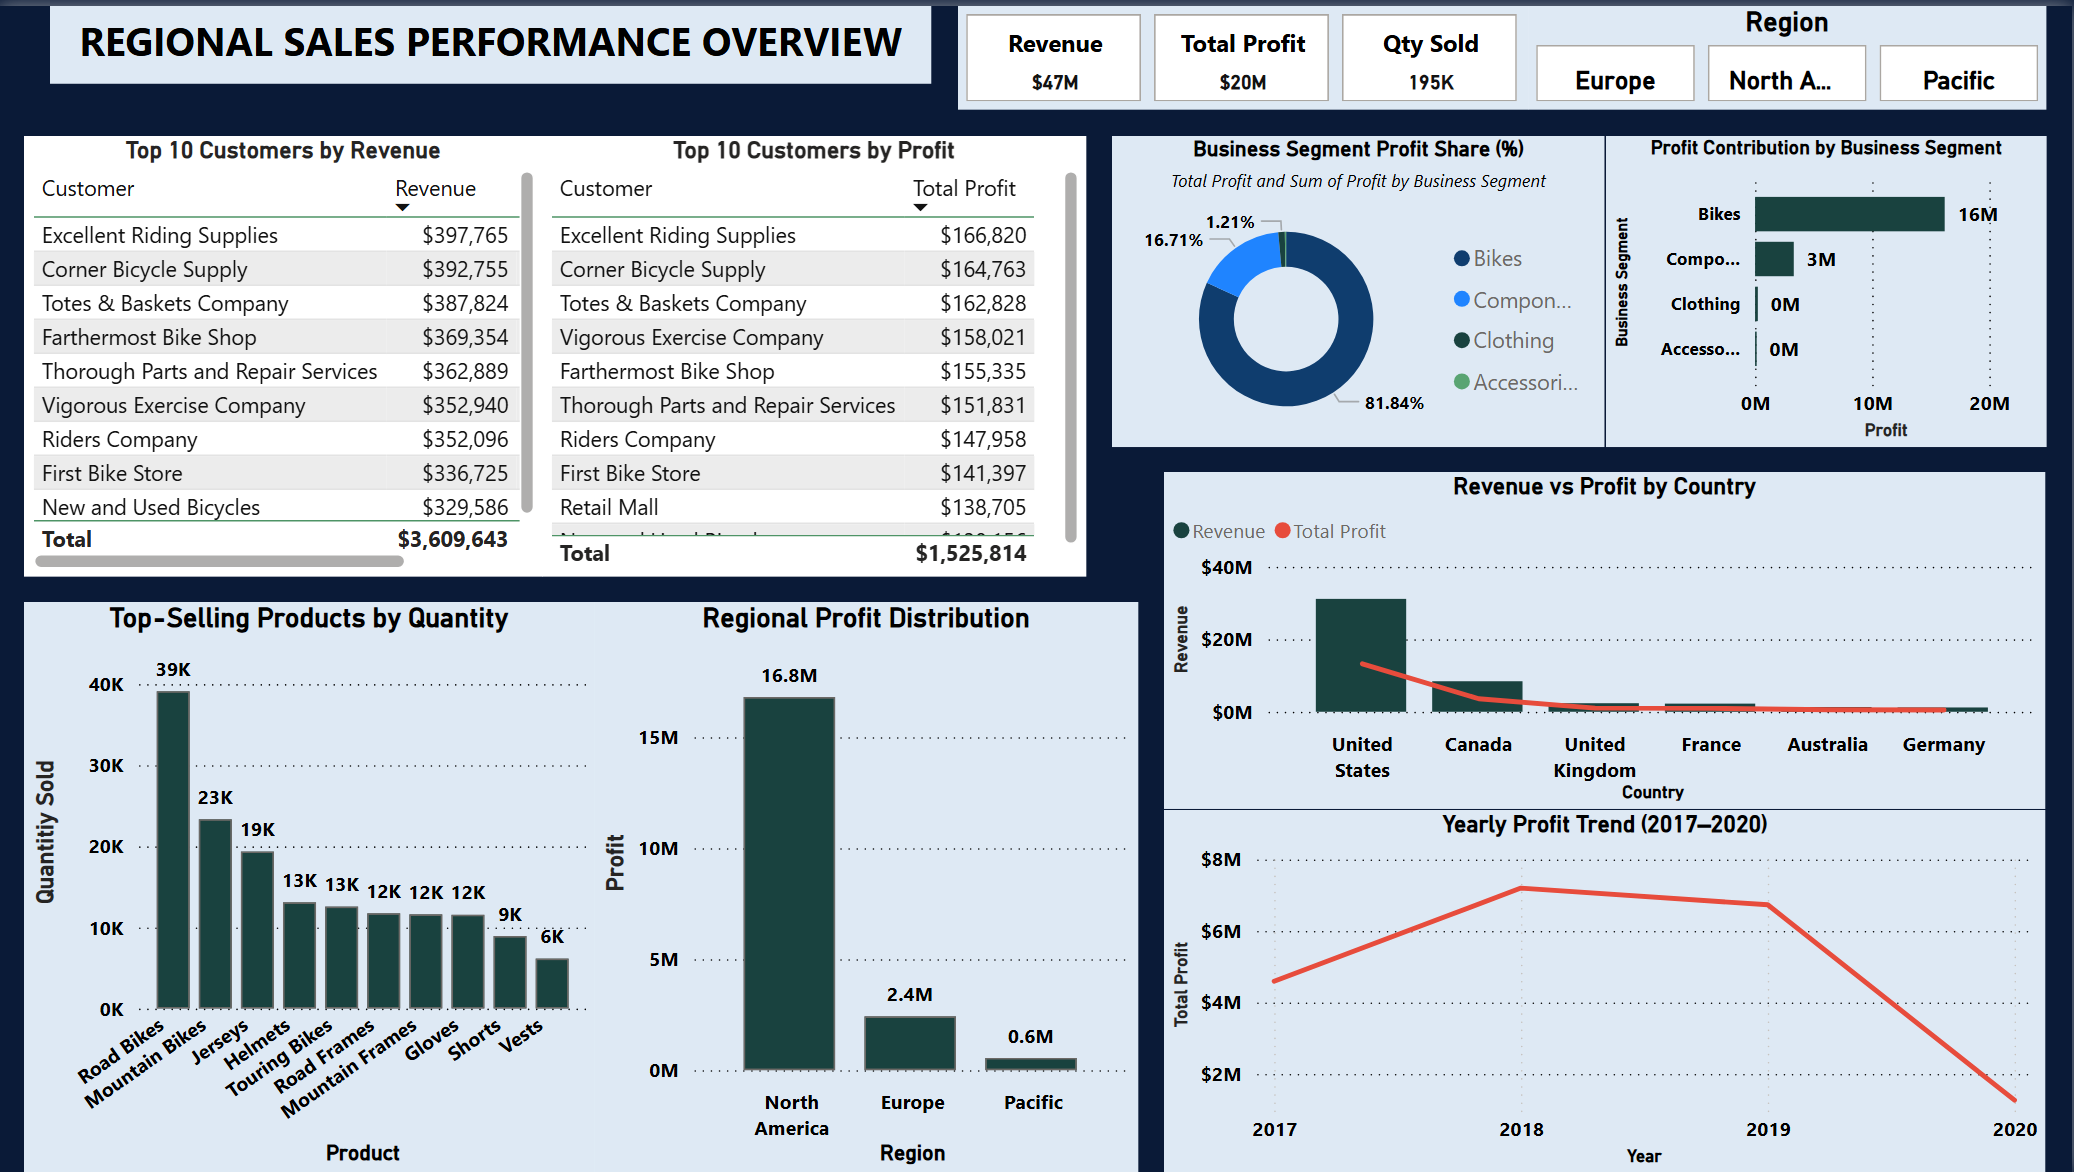

Layout of this report page (visuals, bound fields, positions):
{"tool":"powerbi","page":{"name":"Dashboard","canvas":[1280,720],"ordinal":2},"visuals":[{"type":"columnChart","title":"Regional Profit Distribution","fields":{"Category":["TrainingSample2.Region"],"Y":["Sum(TrainingSample2.Profit)"]},"box":[368,368,336,352],"z":0},{"type":"tableEx","title":"Top 10 Customers by Revenue","fields":{"Values":["TrainingSample2.Customer","TrainingSample2.Revenue","TrainingSample2.Quantitiy Sold"]},"box":[16,80,320,272],"z":1000},{"type":"columnChart","title":"Top-Selling Products by Quantity","fields":{"Category":["TrainingSample2.Product"],"Y":["TrainingSample2.Quantitiy Sold"]},"box":[16,368,352,352],"z":2000},{"type":"cardVisual","fields":{"Data":["TrainingSample2.Revenue","TrainingSample2.Total Profit","Sum(TrainingSample2.OrderQty)"]},"box":[592,0,352,64],"z":3000},{"type":"lineChart","title":"Yearly Profit Trend (2017–2020)","fields":{"Category":["TrainingSample2.SalesDate.Variation.Date Hierarchy.Year"],"Y":["TrainingSample2.Total Profit"]},"box":[720,496,544,224],"z":4000},{"type":"lineStackedColumnComboChart","title":"Revenue vs Profit by Country","fields":{"Category":["TrainingSample2.Country"],"Y":["TrainingSample2.Revenue"],"Y2":["TrainingSample2.Total Profit"]},"box":[720,288,544,208],"z":5000},{"type":"donutChart","title":"Business Segment Profit Share (%)","fields":{"Category":["TrainingSample2.Business Segment"],"Y":["TrainingSample2.Total Profit"]},"box":[688,80,304,192],"z":6000},{"type":"advancedSlicerVisual","fields":{"Values":["TrainingSample2.Region"]},"box":[944,0,320,64],"z":7000},{"type":"textbox","box":[32,0,544,48],"z":8000},{"type":"tableEx","title":"Top 10 Customers by Profit","fields":{"Values":["TrainingSample2.Customer","TrainingSample2.Total Profit"]},"box":[336,80,336,272],"z":9000},{"type":"clusteredBarChart","title":"Profit Contribution by Business Segment","fields":{"Category":["TrainingSample2.Business Segment"],"Y":["Sum(TrainingSample2.Profit)"]},"box":[992,80,272,192],"z":10000}]}

Visuals, with their boxes in screenshot pixels (x1, y1, x2, y2), scaled from the page's 1280x720 canvas onto the 2074x1172 screenshot:
"Regional Profit Distribution" columnChart: <bbox>596, 599, 1141, 1171</bbox>
"Top 10 Customers by Revenue" tableEx: <bbox>26, 130, 544, 573</bbox>
"Top-Selling Products by Quantity" columnChart: <bbox>26, 599, 596, 1171</bbox>
cardVisual - TrainingSample2.Revenue x TrainingSample2.Total Profit: <bbox>959, 0, 1530, 104</bbox>
"Yearly Profit Trend (2017–2020)" lineChart: <bbox>1167, 807, 2048, 1171</bbox>
"Revenue vs Profit by Country" lineStackedColumnComboChart: <bbox>1167, 469, 2048, 807</bbox>
"Business Segment Profit Share (%)" donutChart: <bbox>1115, 130, 1607, 443</bbox>
advancedSlicerVisual - TrainingSample2.Region: <bbox>1530, 0, 2048, 104</bbox>
textbox: <bbox>52, 0, 933, 78</bbox>
"Top 10 Customers by Profit" tableEx: <bbox>544, 130, 1089, 573</bbox>
"Profit Contribution by Business Segment" clusteredBarChart: <bbox>1607, 130, 2048, 443</bbox>
